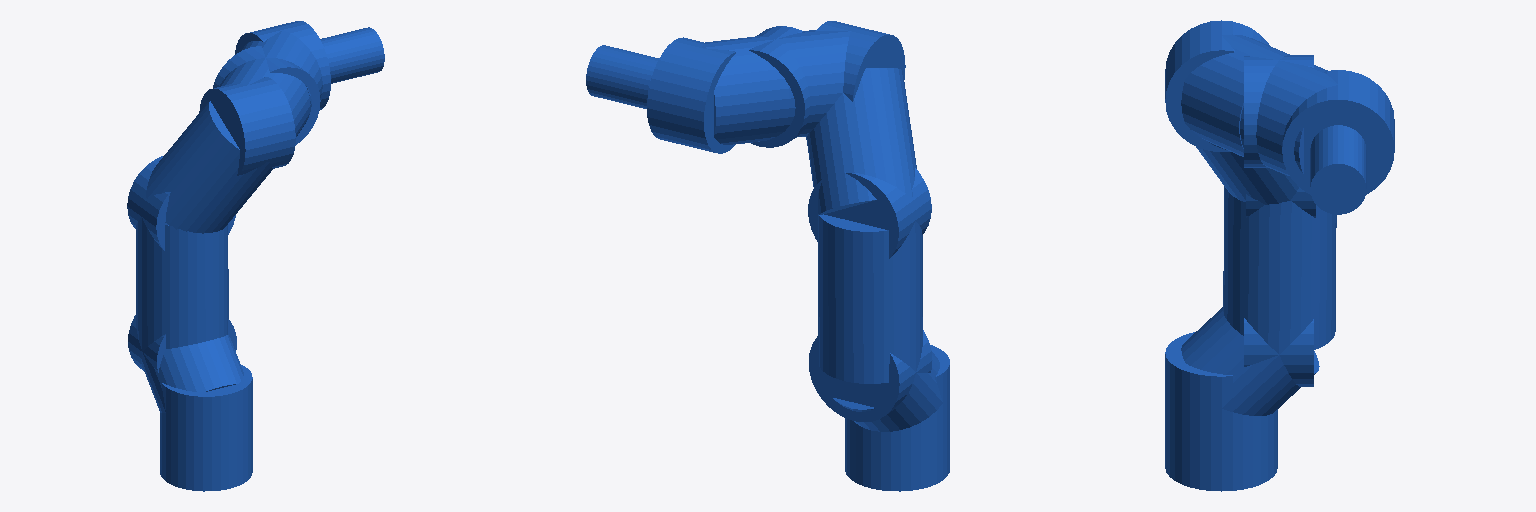
robot.urdf — ets_6dof_arm:
<?xml version="1.0"?>
<robot name="ets_6dof_arm">
  <material name="body"><color rgba="0.2 0.45 0.8 1.0"/></material>

  <link name="base_link">
    <inertial>
      <origin xyz="0 0 0.0325" rpy="0 0 0"/>
      <mass value="0.15"/>
      <inertia ixx="1e-4" ixy="0" ixz="0" iyy="1e-4" iyz="0" izz="1e-4"/>
    </inertial>
    <visual>
      <origin xyz="0 0 0.0325" rpy="0 0 0"/>
      <geometry><cylinder radius="0.04" length="0.065"/></geometry>
      <material name="body"/>
    </visual>
    <collision>
      <origin xyz="0 0 0.0325" rpy="0 0 0"/>
      <geometry><cylinder radius="0.04" length="0.065"/></geometry>
    </collision>
  </link>

  <link name="link1">
    <inertial>
      <origin xyz="0 0.0205 0.021" rpy="0 0 0"/>
      <mass value="0.3"/>
      <inertia ixx="1e-4" ixy="0" ixz="0" iyy="1e-4" iyz="0" izz="1e-4"/>
    </inertial>
    <visual>
      <origin xyz="0 0 0" rpy="0 0 0"/>
      <geometry><cylinder radius="0.04" length="0.05"/></geometry>
      <material name="body"/>
    </visual>
    <visual>
      <origin xyz="0 0.0205 0.021" rpy="-0.773351 0 0"/>
      <geometry><cylinder radius="0.04" length="0.058694"/></geometry>
      <material name="body"/>
    </visual>
    <collision>
      <origin xyz="0 0 0" rpy="0 0 0"/>
      <geometry><cylinder radius="0.04" length="0.05"/></geometry>
    </collision>
    <collision>
      <origin xyz="0 0.0205 0.021" rpy="-0.773351 0 0"/>
      <geometry><cylinder radius="0.04" length="0.058694"/></geometry>
    </collision>
  </link>

  <link name="link2">
    <inertial>
      <origin xyz="0 -0.064 0.0005" rpy="0 0 0"/>
      <mass value="0.3"/>
      <inertia ixx="1e-4" ixy="0" ixz="0" iyy="1e-4" iyz="0" izz="1e-4"/>
    </inertial>
    <visual>
      <origin xyz="0 0 0" rpy="0 0 0"/>
      <geometry><cylinder radius="0.04" length="0.05"/></geometry>
      <material name="body"/>
    </visual>
    <visual>
      <origin xyz="0 -0.064 0.0005" rpy="1.562984 0 0"/>
      <geometry><cylinder radius="0.04" length="0.128004"/></geometry>
      <material name="body"/>
    </visual>
    <collision>
      <origin xyz="0 0 0" rpy="0 0 0"/>
      <geometry><cylinder radius="0.04" length="0.05"/></geometry>
    </collision>
    <collision>
      <origin xyz="0 -0.064 0.0005" rpy="1.562984 0 0"/>
      <geometry><cylinder radius="0.04" length="0.128004"/></geometry>
    </collision>
  </link>

  <link name="link3">
    <inertial>
      <origin xyz="0.0205 0.0415 0.021" rpy="0 0 0"/>
      <mass value="0.3"/>
      <inertia ixx="1e-4" ixy="0" ixz="0" iyy="1e-4" iyz="0" izz="1e-4"/>
    </inertial>
    <visual>
      <origin xyz="0 0 0" rpy="0 0 0"/>
      <geometry><cylinder radius="0.04" length="0.05"/></geometry>
      <material name="body"/>
    </visual>
    <visual>
      <origin xyz="0.0205 0.0415 0.021" rpy="-1.102341 0.415142 -0.257492"/>
      <geometry><cylinder radius="0.04" length="0.101656"/></geometry>
      <material name="body"/>
    </visual>
    <collision>
      <origin xyz="0 0 0" rpy="0 0 0"/>
      <geometry><cylinder radius="0.04" length="0.05"/></geometry>
    </collision>
    <collision>
      <origin xyz="0.0205 0.0415 0.021" rpy="-1.102341 0.415142 -0.257492"/>
      <geometry><cylinder radius="0.04" length="0.101656"/></geometry>
    </collision>
  </link>

  <link name="link4">
    <inertial>
      <origin xyz="0 0.0205 0.021" rpy="0 0 0"/>
      <mass value="0.3"/>
      <inertia ixx="1e-4" ixy="0" ixz="0" iyy="1e-4" iyz="0" izz="1e-4"/>
    </inertial>
    <visual>
      <origin xyz="0 0 0" rpy="0 0 0"/>
      <geometry><cylinder radius="0.04" length="0.05"/></geometry>
      <material name="body"/>
    </visual>
    <visual>
      <origin xyz="0 0.0205 0.021" rpy="-0.773351 0 0"/>
      <geometry><cylinder radius="0.04" length="0.058694"/></geometry>
      <material name="body"/>
    </visual>
    <collision>
      <origin xyz="0 0 0" rpy="0 0 0"/>
      <geometry><cylinder radius="0.04" length="0.05"/></geometry>
    </collision>
    <collision>
      <origin xyz="0 0.0205 0.021" rpy="-0.773351 0 0"/>
      <geometry><cylinder radius="0.04" length="0.058694"/></geometry>
    </collision>
  </link>

  <link name="link5">
    <inertial>
      <origin xyz="0 -0.0205 0.021" rpy="0 0 0"/>
      <mass value="0.3"/>
      <inertia ixx="1e-4" ixy="0" ixz="0" iyy="1e-4" iyz="0" izz="1e-4"/>
    </inertial>
    <visual>
      <origin xyz="0 0 0" rpy="0 0 0"/>
      <geometry><cylinder radius="0.04" length="0.05"/></geometry>
      <material name="body"/>
    </visual>
    <visual>
      <origin xyz="0 -0.0205 0.021" rpy="0.773351 0 0"/>
      <geometry><cylinder radius="0.04" length="0.058694"/></geometry>
      <material name="body"/>
    </visual>
    <collision>
      <origin xyz="0 0 0" rpy="0 0 0"/>
      <geometry><cylinder radius="0.04" length="0.05"/></geometry>
    </collision>
    <collision>
      <origin xyz="0 -0.0205 0.021" rpy="0.773351 0 0"/>
      <geometry><cylinder radius="0.04" length="0.058694"/></geometry>
    </collision>
  </link>

  <link name="link6">
    <inertial>
      <origin xyz="0 0 0.045" rpy="0 0 0"/>
      <mass value="0.3"/>
      <inertia ixx="1e-4" ixy="0" ixz="0" iyy="1e-4" iyz="0" izz="1e-4"/>
    </inertial>
    <visual>
      <origin xyz="0 0 0" rpy="0 0 0"/>
      <geometry><cylinder radius="0.04" length="0.05"/></geometry>
      <material name="body"/>
    </visual>
    <visual>
      <origin xyz="0 0 0.045" rpy="0 0 0"/>
      <geometry><cylinder radius="0.02" length="0.09"/></geometry>
      <material name="body"/>
    </visual>
    <collision>
      <origin xyz="0 0 0" rpy="0 0 0"/>
      <geometry><cylinder radius="0.04" length="0.05"/></geometry>
    </collision>
    <collision>
      <origin xyz="0 0 0.045" rpy="0 0 0"/>
      <geometry><cylinder radius="0.02" length="0.09"/></geometry>
    </collision>
  </link>

  <link name="tool0"/>

  <joint name="joint1" type="revolute">
    <parent link="base_link"/>
    <child link="link1"/>
    <origin xyz="0 0 0.065" rpy="0 0 0"/>
    <axis xyz="0 0 1"/>
    <limit lower="-3.14159" upper="3.14159" effort="10" velocity="3.0"/>
    <dynamics damping="0.05" friction="0.01"/>
  </joint>

  <joint name="joint2" type="revolute">
    <parent link="link1"/>
    <child link="link2"/>
    <origin xyz="0 0.041 0.042" rpy="-1.570796 0 0"/>
    <axis xyz="0 0 1"/>
    <limit lower="-3.14159" upper="3.14159" effort="10" velocity="3.0"/>
    <dynamics damping="0.05" friction="0.01"/>
  </joint>

  <joint name="joint3" type="revolute">
    <parent link="link2"/>
    <child link="link3"/>
    <origin xyz="0 -0.128 0.001" rpy="3.141593 0 0"/>
    <axis xyz="0 0 1"/>
    <limit lower="-3.14159" upper="3.14159" effort="10" velocity="3.0"/>
    <dynamics damping="0.05" friction="0.01"/>
  </joint>

  <joint name="joint4" type="revolute">
    <parent link="link3"/>
    <child link="link4"/>
    <origin xyz="0.041 0.083 0.042" rpy="-1.570796 0 -1.570796"/>
    <axis xyz="0 0 1"/>
    <limit lower="-3.14159" upper="3.14159" effort="10" velocity="3.0"/>
    <dynamics damping="0.05" friction="0.01"/>
  </joint>

  <joint name="joint5" type="revolute">
    <parent link="link4"/>
    <child link="link5"/>
    <origin xyz="0 0.041 0.042" rpy="-1.570796 0 0"/>
    <axis xyz="0 0 1"/>
    <limit lower="-3.14159" upper="3.14159" effort="10" velocity="3.0"/>
    <dynamics damping="0.05" friction="0.01"/>
  </joint>

  <joint name="joint6" type="revolute">
    <parent link="link5"/>
    <child link="link6"/>
    <origin xyz="0 -0.041 0.042" rpy="1.570796 0 0"/>
    <axis xyz="0 0 1"/>
    <limit lower="-3.14159" upper="3.14159" effort="10" velocity="3.0"/>
    <dynamics damping="0.05" friction="0.01"/>
  </joint>

  <joint name="tool0_joint" type="fixed">
    <parent link="link6"/>
    <child link="tool0"/>
    <origin xyz="0 0 0.09" rpy="0 0 3.141593"/>
  </joint>
</robot>

--- Render facts (derived) ---
3 views of the same robot in one strip: view 1: azimuth 30°, elevation 25°; view 2: azimuth 150°, elevation 25°; view 3: azimuth 270°, elevation 25° (orthographic).
Robot: ets_6dof_arm — 8 links, 7 joints (6 revolute, 1 fixed); root link base_link; default pose: every joint at zero.
Visible links, largest first — view 1: link2, link3, link1, link4, base_link, link6, link5; view 2: link2, link3, link6, link5, link4, base_link, link1; view 3: link2, link6, link4, link1, base_link, link5, link3.
Boxes of the visible links, box(x1,y1,x2,y2) form: link2: box(128, 217, 236, 372); link3: box(127, 101, 272, 250); link1: box(141, 335, 252, 448); link4: box(199, 58, 310, 176); base_link: box(160, 405, 252, 491); link6: box(235, 21, 384, 110); link5: box(213, 30, 322, 145); link2: box(809, 214, 932, 421); link3: box(806, 68, 931, 258); link6: box(586, 37, 735, 153); link5: box(702, 26, 809, 147); link4: box(776, 21, 905, 137); base_link: box(845, 395, 949, 491); link1: box(833, 345, 949, 443); link2: box(1223, 186, 1336, 386); link6: box(1282, 70, 1394, 214); link4: box(1165, 20, 1289, 156); link1: box(1165, 307, 1319, 439); base_link: box(1165, 386, 1277, 491); link5: box(1240, 55, 1337, 175); link3: box(1196, 142, 1315, 217).
Bounding box of the posed robot: 0.254 × 0.163 × 0.358 m (x, y, z).
Geometry: primitives only (box / cylinder / sphere), no mesh files.
